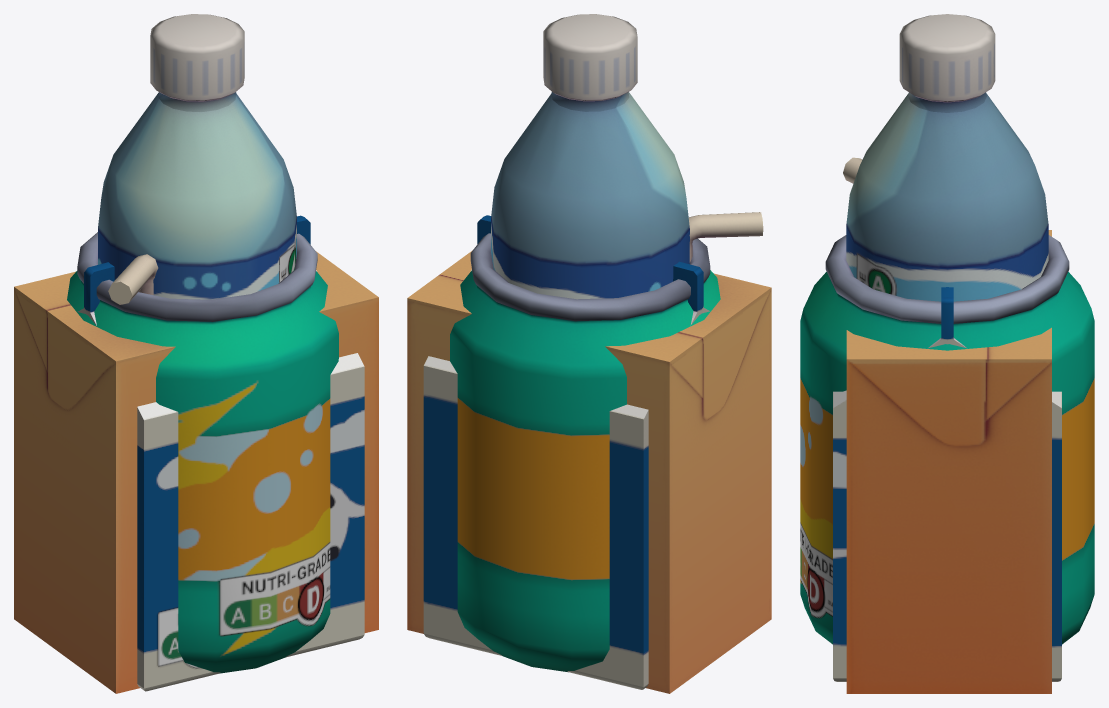
Rendered from drinks.gltf.
The picture shows the model from 3 angles, left to right: view 1: azimuth 30°, elevation 25°; view 2: azimuth 150°, elevation 25°; view 3: azimuth 270°, elevation 25°; orthographic projection.
Visible parts, largest first — view 1: soda_GEO:PIV, juice_GEO:PIV, water_GEO:PIV, milk_GEO:PIV; view 2: soda_GEO:PIV, juice_GEO:PIV, water_GEO:PIV, milk_GEO:PIV; view 3: juice_GEO:PIV, water_GEO:PIV, soda_GEO:PIV, milk_GEO:PIV.
Part boxes in pixels (box(x1,y1,x2,y2)): soda_GEO:PIV: box(67, 232, 338, 673); juice_GEO:PIV: box(14, 251, 378, 693); water_GEO:PIV: box(98, 14, 296, 299); milk_GEO:PIV: box(77, 215, 364, 691); soda_GEO:PIV: box(450, 233, 720, 672); juice_GEO:PIV: box(407, 212, 771, 693); water_GEO:PIV: box(491, 14, 689, 299); milk_GEO:PIV: box(423, 215, 709, 689); juice_GEO:PIV: box(843, 157, 1051, 693); water_GEO:PIV: box(846, 14, 1048, 301); soda_GEO:PIV: box(800, 235, 1094, 644); milk_GEO:PIV: box(833, 287, 1061, 681).
Bounding box in the file's own units: 55.86 × 121 × 53.81.
Materials: 1 (1 with a texture image).
